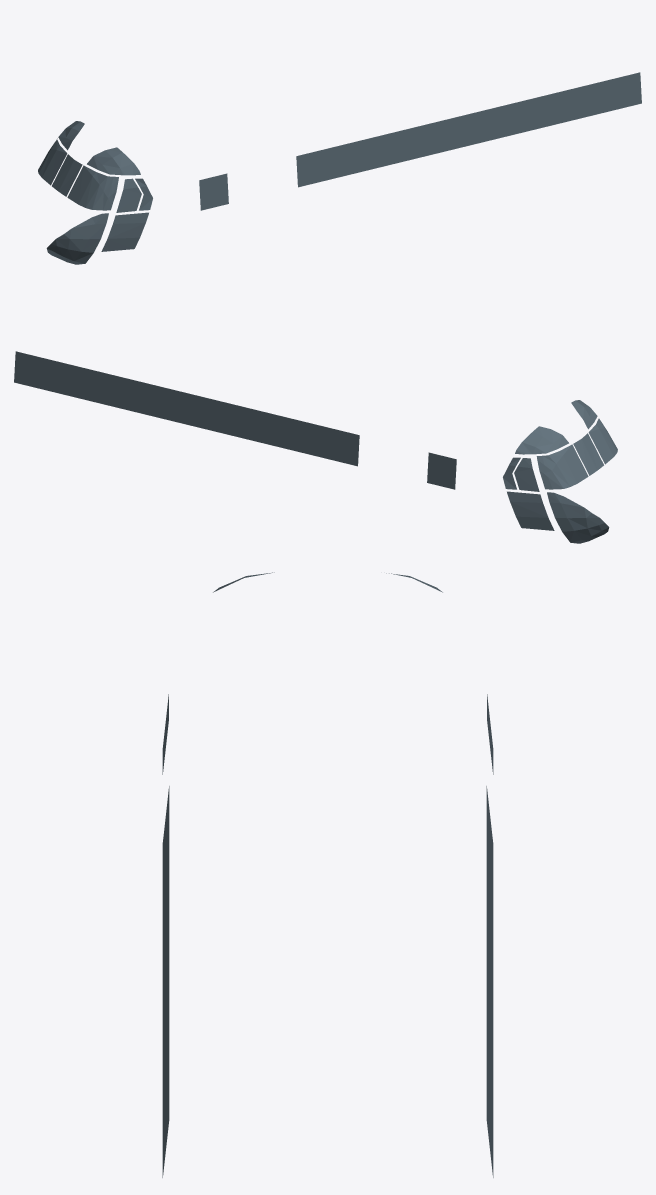
Rendered from ch47.glass.glb.
3 renders of one model, top to bottom at view 1: azimuth 30°, elevation 25°; view 2: azimuth 150°, elevation 25°; view 3: azimuth 270°, elevation 25°, orthographic. The views are drawn at different scales.
Visible parts, largest first — view 1: glass; view 2: glass; view 3: glass.
Part boxes in pixels (x1,y1,x2,y2): glass: [38, 72, 641, 264]; glass: [14, 351, 617, 543]; glass: [162, 572, 493, 1177].
Bounding box in the file's own units: 11.21 × 1.98 × 2.83.
